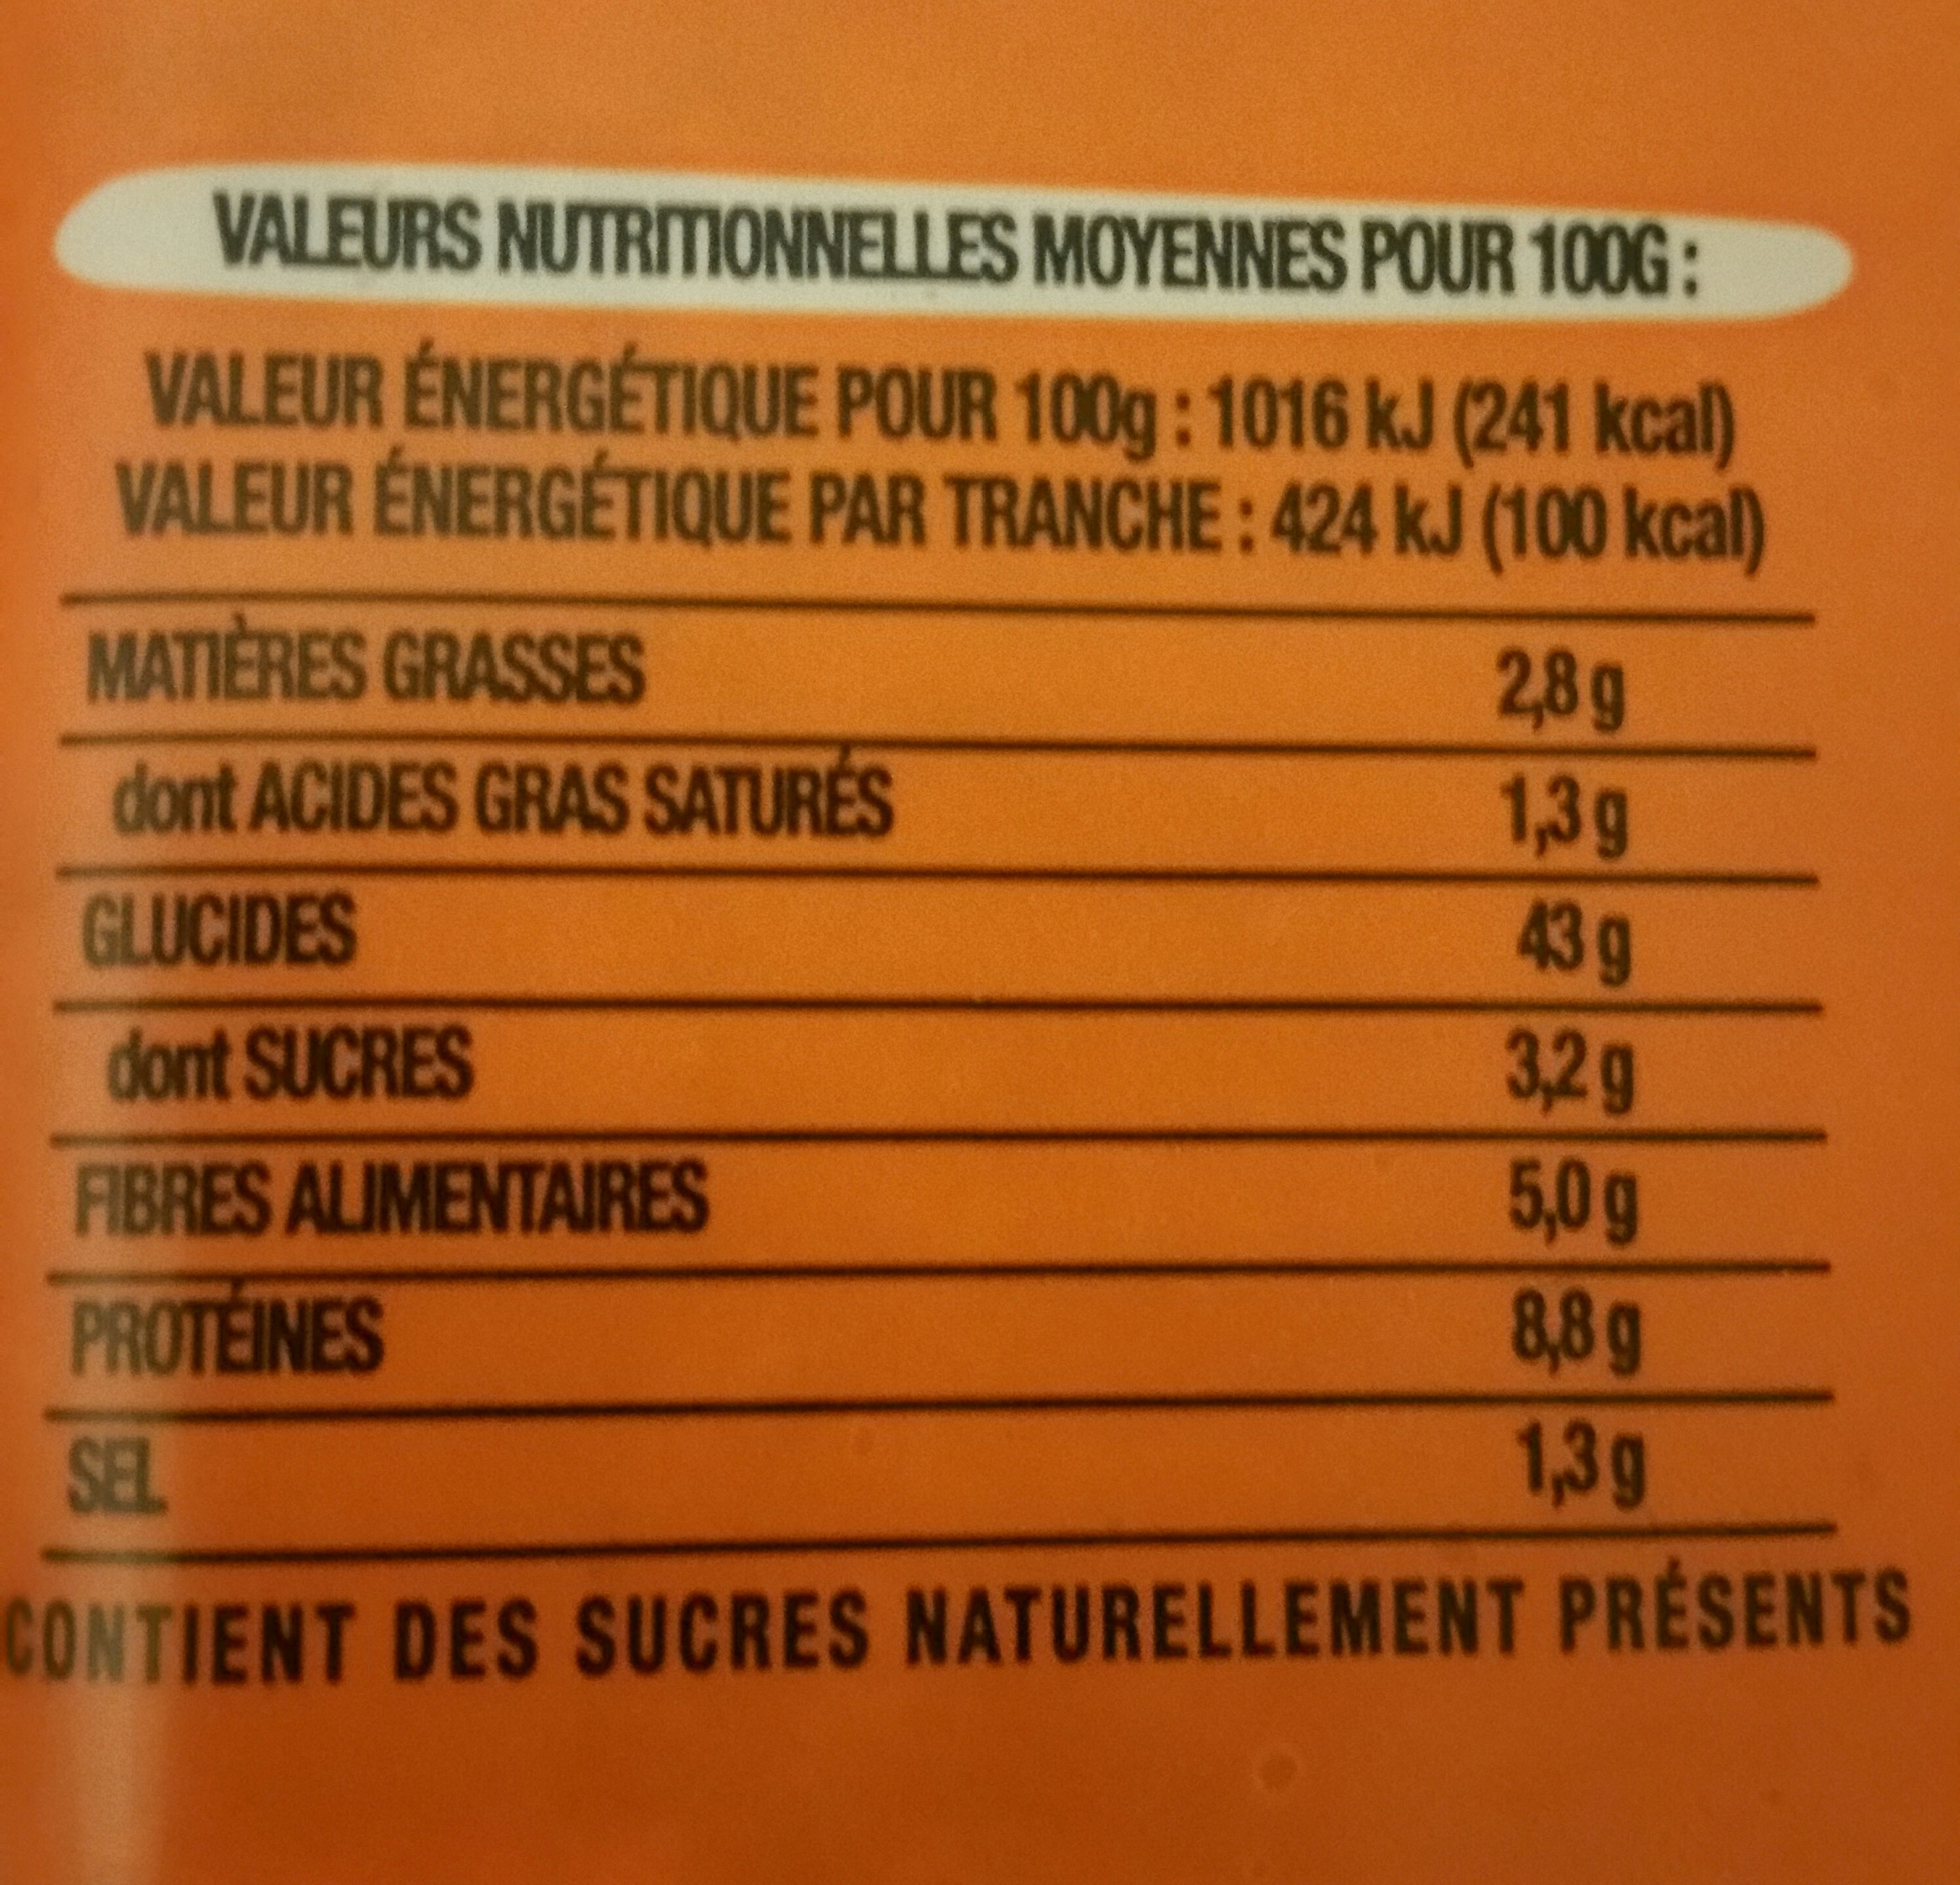column: (77, 625, 896, 1540), (1494, 646, 1643, 1510)
table: (54, 590, 1843, 1559)
